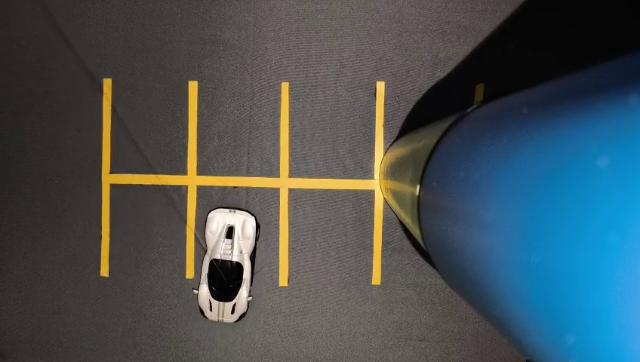toy_car: (183, 192, 282, 328)
